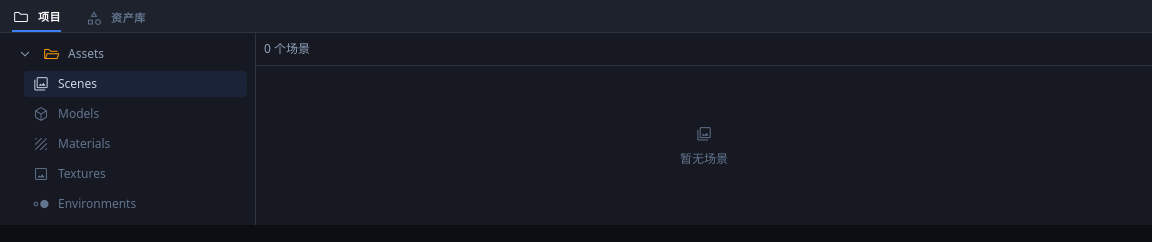
Test: ProjectPanel IBL integration › hides IBL assets from the Textures folder
The image size is (1152, 242).
Click the text "Textures": point(82, 174) [58,166,106,182]
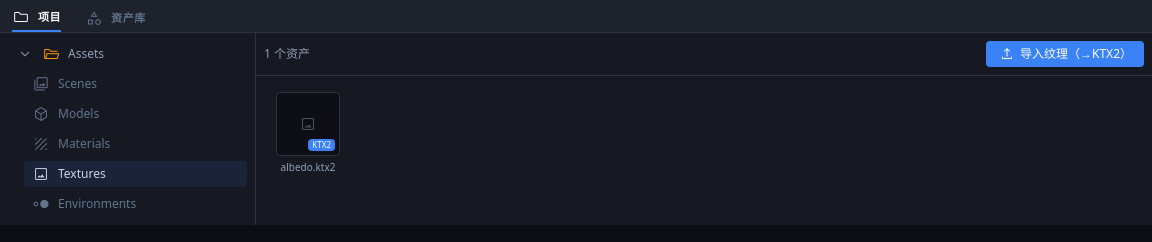
Expected: the text "albedo.ktx2" is shown, [281,160,335,174]
